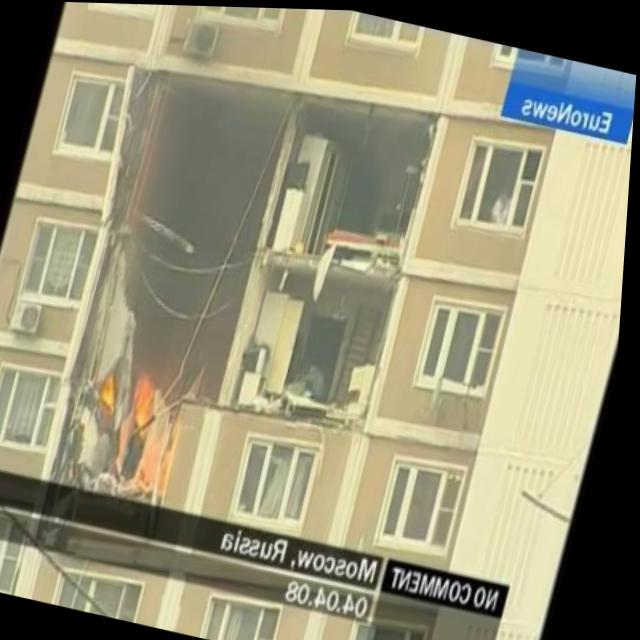fire: (124, 369, 172, 447), (95, 369, 127, 420)
